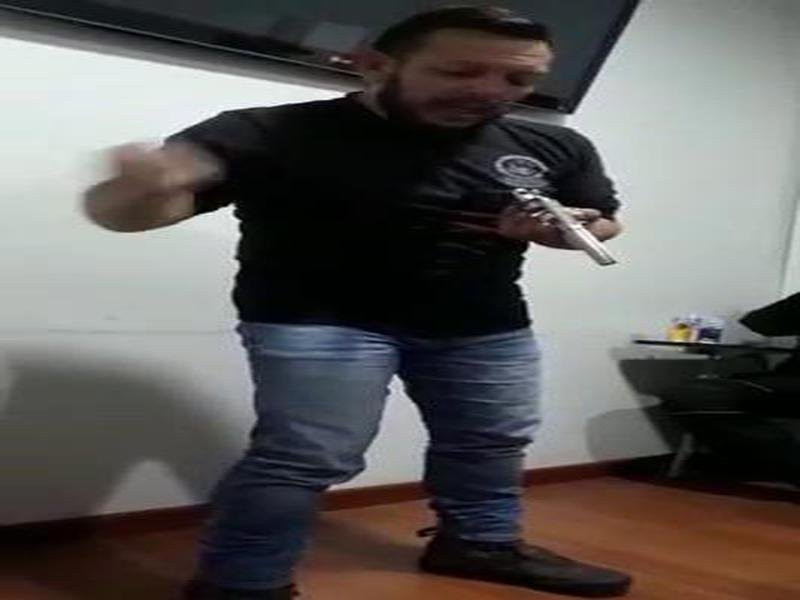Revolver: (450, 164, 658, 294)
